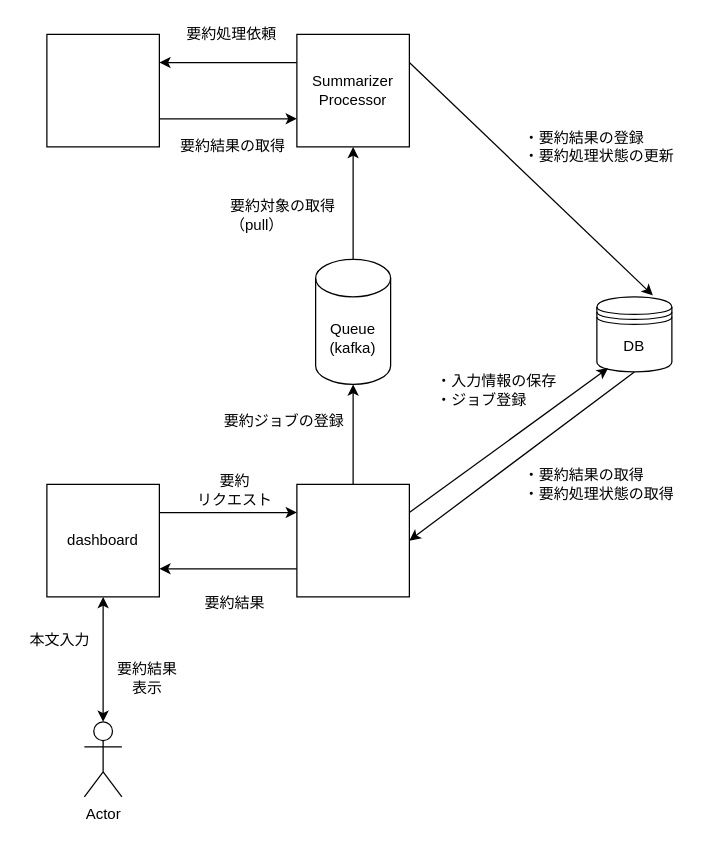
Some shapes in this 718 by 844 pixel diagram are drawn without their labels. The shapes that lost their labels are listed below. From the top down, each one's centre as x and y in pixels, then its label:
the point at 102,90: Summarizer
the point at 352,540: api gateway
